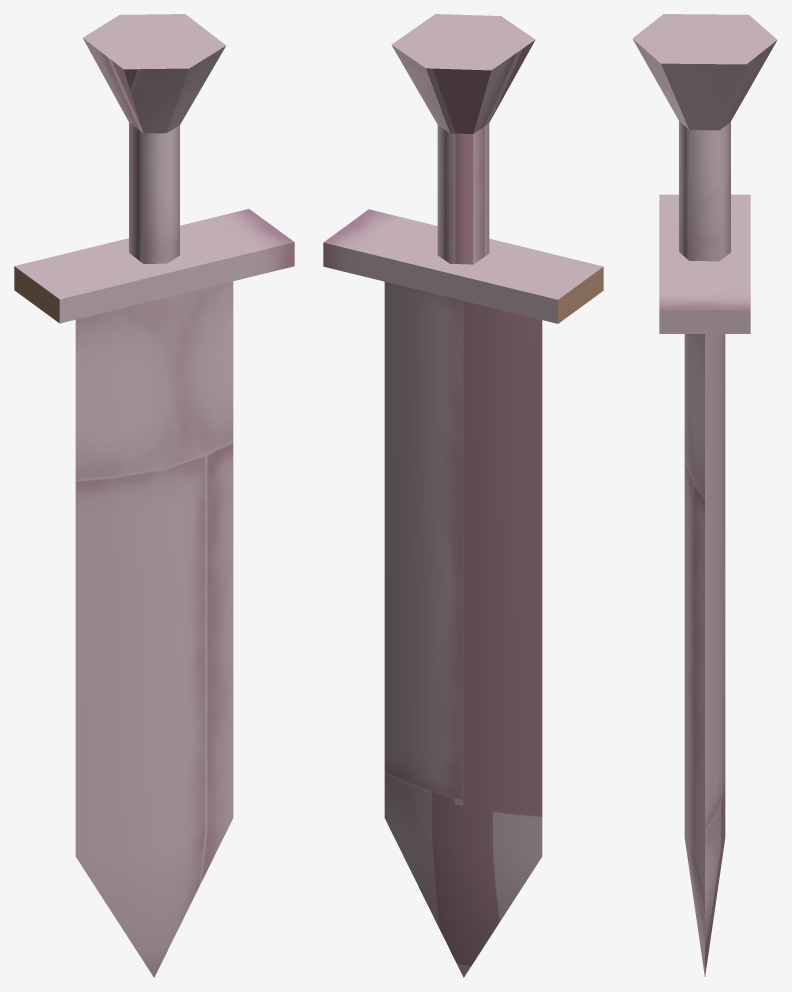
File: SWORD.fbx
3 views of the same model, side by side, from view 1: azimuth 30°, elevation 25°; view 2: azimuth 150°, elevation 25°; view 3: azimuth 270°, elevation 25° (orthographic).
Visible parts, largest first — view 1: pCylinder2; view 2: pCylinder2; view 3: pCylinder2.
Part boxes in pixels (box(x1,y1,x2,y2)): pCylinder2: box(14, 14, 294, 977); pCylinder2: box(323, 14, 603, 977); pCylinder2: box(632, 14, 777, 976).
Size of the model in its own units: 51.23 by 195 by 27.36.
